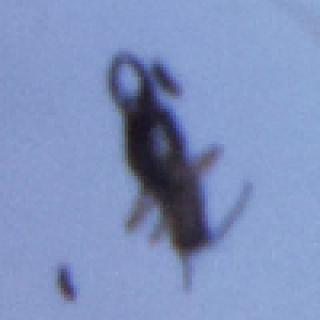earwig: (103, 46, 262, 296)
